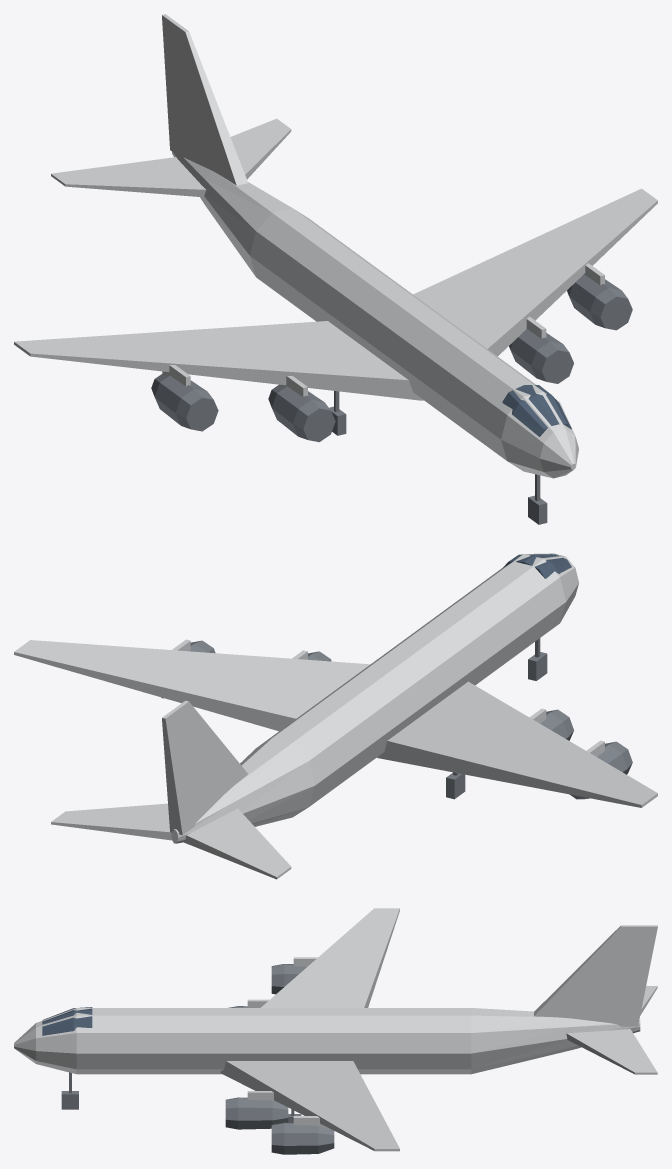
File: widebody-quad.glb
3 views of the same model, one above another, from view 1: azimuth 30°, elevation 25°; view 2: azimuth 150°, elevation 25°; view 3: azimuth 270°, elevation 25° (orthographic). The views are drawn at different scales.
Parts seen in each view (by area): view 1: widebody-quad; view 2: widebody-quad; view 3: widebody-quad.
Part boxes in pixels (left/top/right/bottom): widebody-quad: left=14, top=14, right=657, bottom=524; widebody-quad: left=14, top=553, right=657, bottom=879; widebody-quad: left=14, top=908, right=657, bottom=1154.
Size of the model in its own units: 1 by 0.3527 by 1.13.
